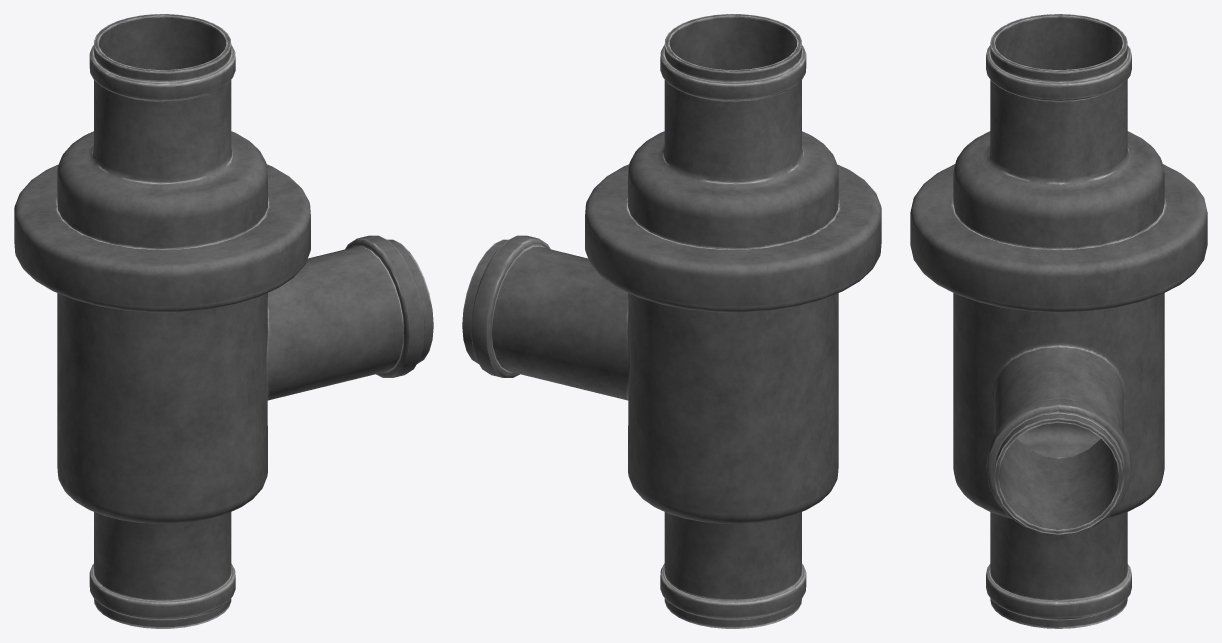
The model's file is thermostat.glb.
The picture shows the model from 3 angles, left to right: view 1: azimuth 30°, elevation 25°; view 2: azimuth 150°, elevation 25°; view 3: azimuth 270°, elevation 25°; orthographic projection.
Parts seen in each view (by area): view 1: thermostat; view 2: thermostat; view 3: thermostat.
Boxes of the visible parts, x1,y1,x2,y2 form: thermostat: [14, 14, 433, 628]; thermostat: [462, 14, 881, 628]; thermostat: [910, 14, 1207, 628].
Bounding box in the file's own units: 1.79 × 2.59 × 1.26.
1 material, 1 textured.
